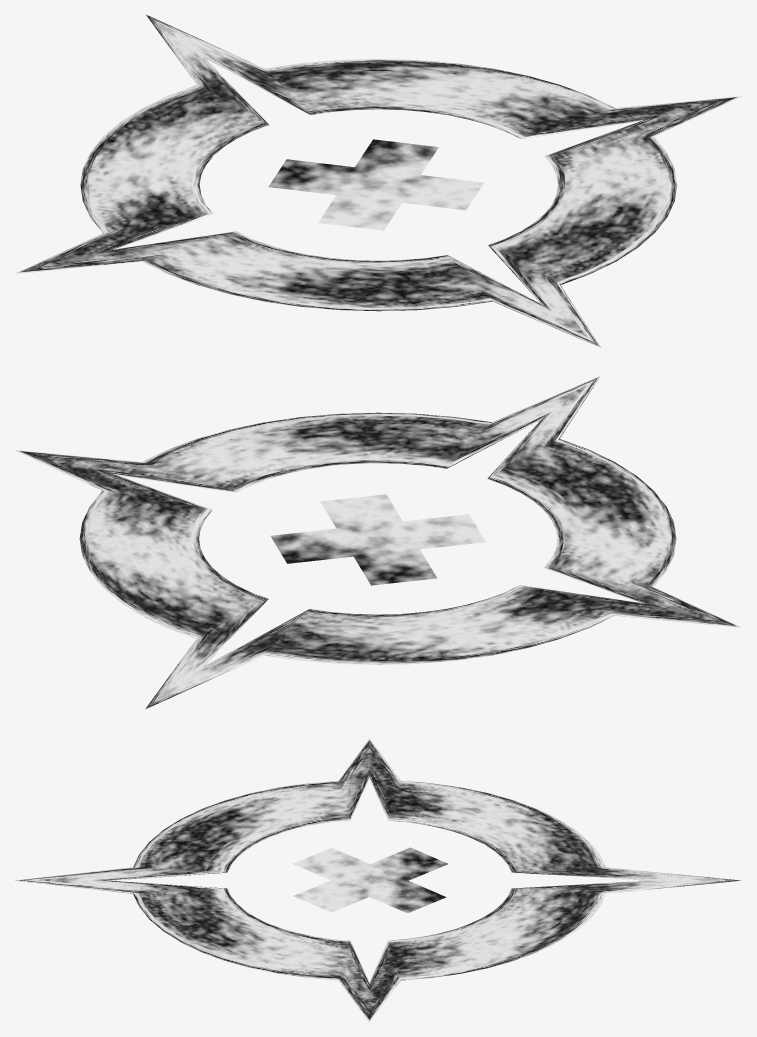
3 views of the same model, one above another, from view 1: azimuth 30°, elevation 25°; view 2: azimuth 150°, elevation 25°; view 3: azimuth 270°, elevation 25° (orthographic). The views are drawn at different scales.
Parts seen in each view (by area): view 1: Torus_Baked; view 2: Torus_Baked; view 3: Torus_Baked.
Boxes of the visible parts, box(x1,y1,x2,y2) form: Torus_Baked: box(15, 14, 741, 347); Torus_Baked: box(14, 376, 742, 709); Torus_Baked: box(15, 738, 741, 1022).
Bounding box in the file's own units: 3.52 × 0.00783 × 3.82.
1 material, 1 textured.
